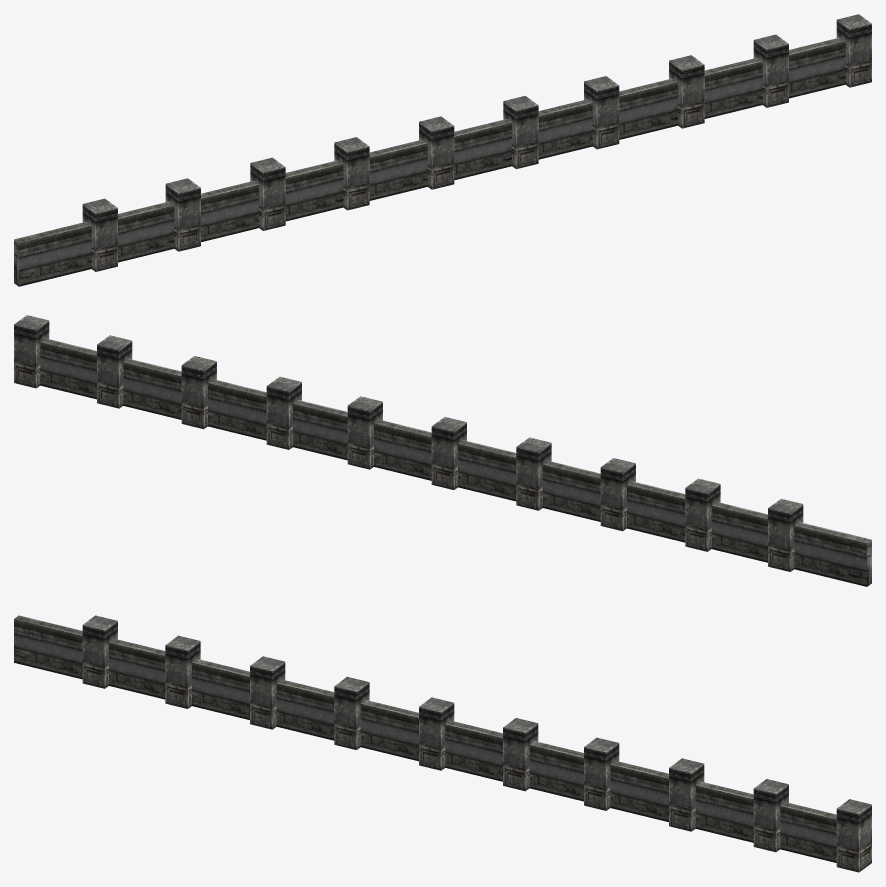
The model's file is bridge0210.obj.
3 renders of one model, top to bottom at view 1: azimuth 30°, elevation 25°; view 2: azimuth 150°, elevation 25°; view 3: azimuth 330°, elevation 25°, orthographic.
Parts seen in each view (by area): view 1: bridge0210; view 2: bridge0210; view 3: bridge0210.
Part boxes in pixels (bbox=[...]): bridge0210: bbox=[14, 14, 871, 286]; bridge0210: bbox=[14, 315, 871, 586]; bridge0210: bbox=[14, 615, 871, 872].
Bounding box in the file's own units: 303 × 20 × 8.23.
